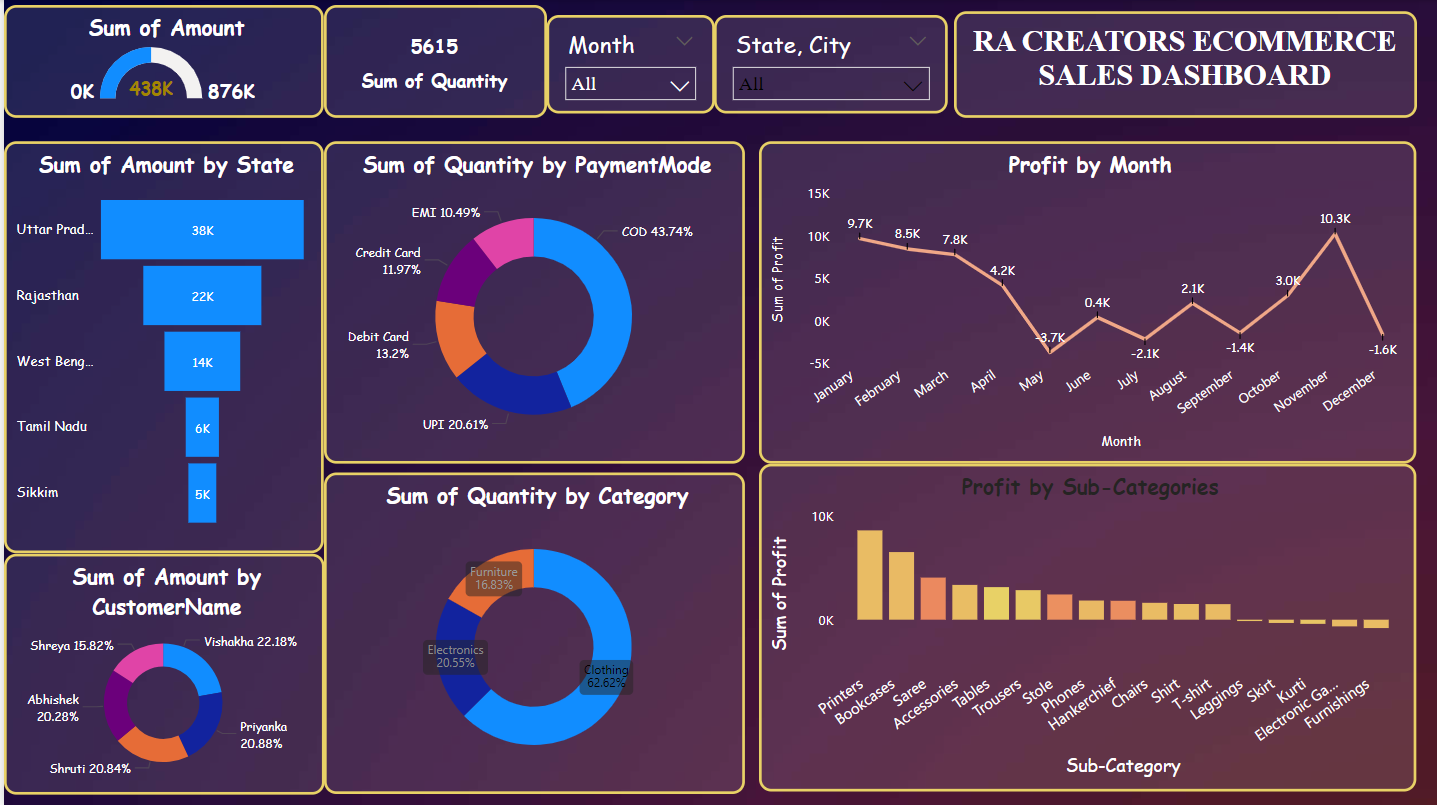

Layout of this report page (visuals, bound fields, positions):
{"tool":"powerbi","page":{"name":"Page 1","canvas":[1280,720],"ordinal":0},"visuals":[{"type":"textbox","box":[848.9,10,413.3,95.6],"z":0},{"type":"lineChart","title":"Profit by Month","fields":{"Category":["Orders.Order Date.Variation.Date Hierarchy.Month"],"Y":["Details.Profit"]},"box":[675,126.2,586.9,288.1],"z":1000},{"type":"clusteredColumnChart","title":"Profit by Sub-Categories","fields":{"Category":["Details.Sub-Category"],"Y":["Details.Profit"]},"box":[675,414.3,586.9,292.9],"z":2000},{"type":"donutChart","fields":{"Category":["Details.Category"],"Y":["Details.Quantity"]},"box":[285.7,422.6,376.2,286.9],"z":3000},{"type":"donutChart","fields":{"Y":["Details.Quantity"],"Category":["Details.PaymentMode"]},"box":[285.7,126.2,376.2,288.1],"z":4000},{"type":"funnel","fields":{"Category":["Orders.State"],"Y":["Details.Amount"]},"box":[0,126.7,285.6,367.8],"z":5000},{"type":"pieChart","fields":{"Category":["Orders.CustomerName"],"Y":["Details.Amount"]},"box":[0,495,286,215],"z":6000},{"type":"gauge","fields":{"Y":["Details.Amount"]},"box":[0,4.4,285.6,101.1],"z":7000},{"type":"card","fields":{"Values":["Details.Quantity"]},"box":[285.6,4.4,198.9,101.1],"z":7001},{"type":"slicer","fields":{"Values":["Orders.Order Date.Variation.Date Hierarchy.Month"]},"box":[484.4,13.3,150,87.8],"z":7002},{"type":"slicer","fields":{"Values":["Orders.State","Orders.City"]},"box":[634.4,13.3,208.9,87.8],"z":7003}]}

Visuals, with their boxes in screenshot pixels (x1, y1, x2, y2), scaled from the page's 1280x720 canvas onto the 1437x805 screenshot:
textbox: detection(953, 11, 1417, 118)
"Profit by Month" lineChart: detection(758, 141, 1417, 463)
"Profit by Sub-Categories" clusteredColumnChart: detection(758, 463, 1417, 791)
donutChart - Details.Category x Details.Quantity: detection(321, 472, 743, 793)
donutChart - Details.Quantity x Details.PaymentMode: detection(321, 141, 743, 463)
funnel - Orders.State x Details.Amount: detection(0, 142, 321, 553)
pieChart - Orders.CustomerName x Details.Amount: detection(0, 553, 321, 794)
gauge - Details.Amount: detection(0, 5, 321, 118)
card - Details.Quantity: detection(321, 5, 544, 118)
slicer - Orders.Order Date.Variation.Date Hierarchy.Month: detection(544, 15, 712, 113)
slicer - Orders.State x Orders.City: detection(712, 15, 947, 113)
